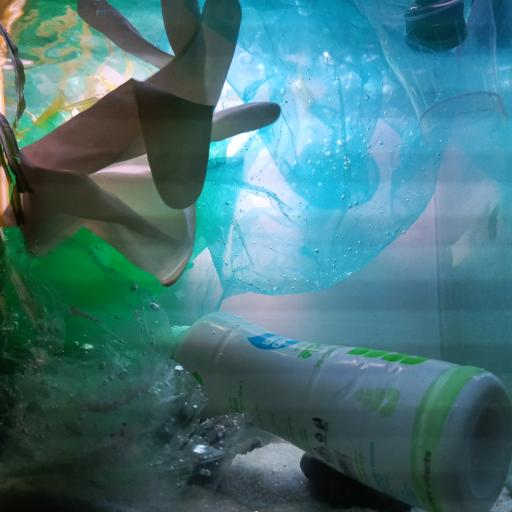bottle_cap: (405, 5, 468, 51)
glove: (12, 0, 284, 288)
plastic_bag: (118, 0, 456, 295), (0, 231, 262, 512), (0, 100, 236, 335)
plastic_bottle: (164, 312, 512, 512)
plastic_cup: (353, 0, 507, 145)
